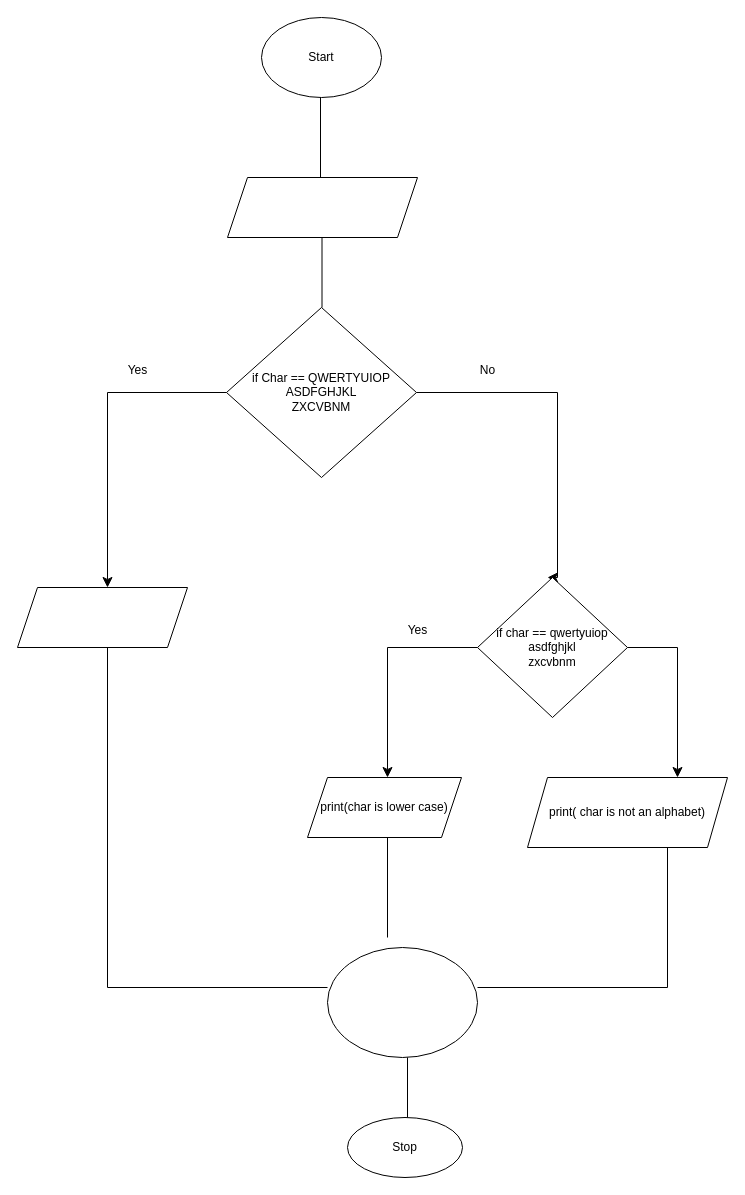
Image size: 745x1195. Some labels were removed from this diagram. The shapes that lost their labels are listed below. From the top down, each one's centre as x and y in pixels, then its label:
the point at 322,207: input any character
the point at 102,617: print(Chart is Uppercase)
the point at 402,1002: connector
